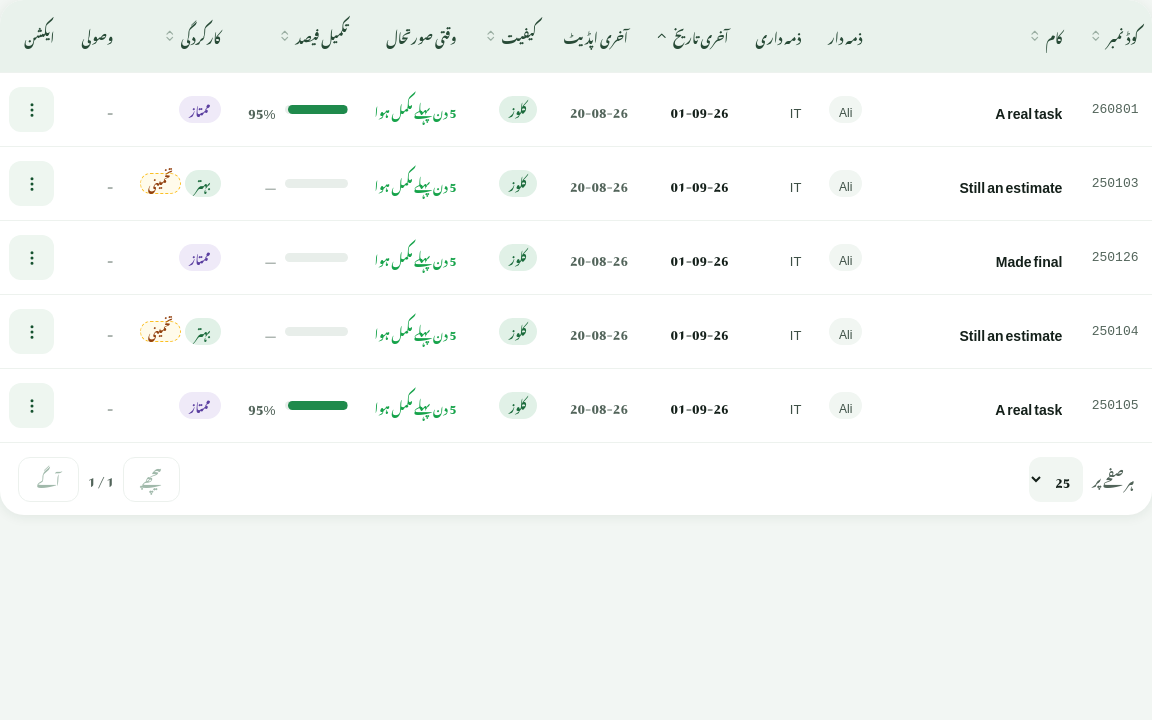
it: the "تخمینی درجہ بندی تبدیل کریں" action › desktop menu: enabled for an estimate, and for an older backend's estimate; still hidden where there was never an estimate
This screenshot has width=1152, height=720.
Click the button named "اقدامات" in the row of "250103".
click(32, 184)  # box [9,161,54,206]
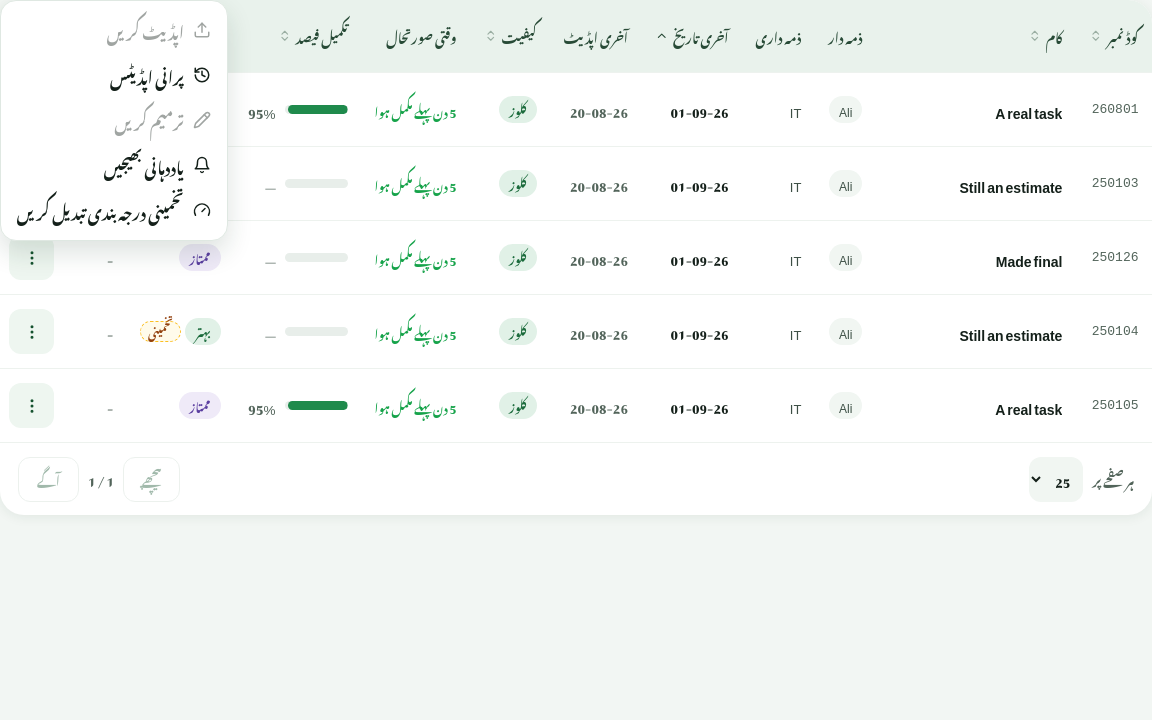
Expected: the button "تخمینی درجہ بندی تبدیل کریں" is enabled
Click the button "تخمینی درجہ بندی تبدیل کریں".
click(114, 210)  # box [8,188,220,233]
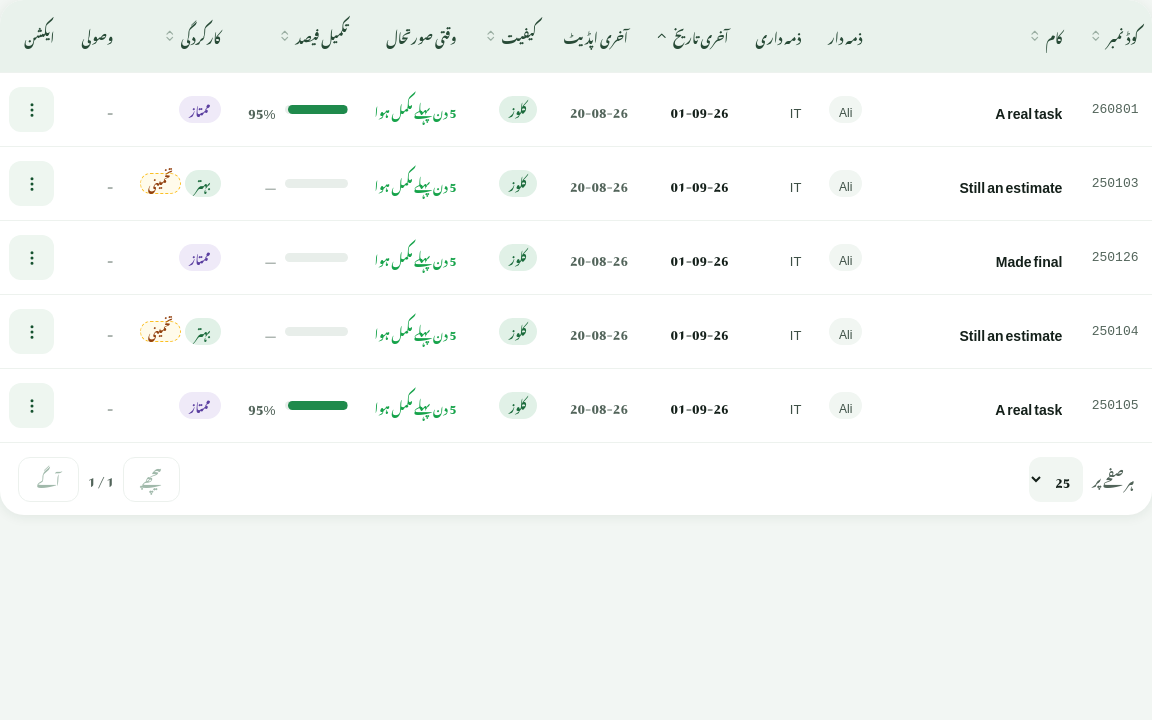
Click the button named "اقدامات" in the row of "250104".
click(32, 332)  # box [9,309,54,354]
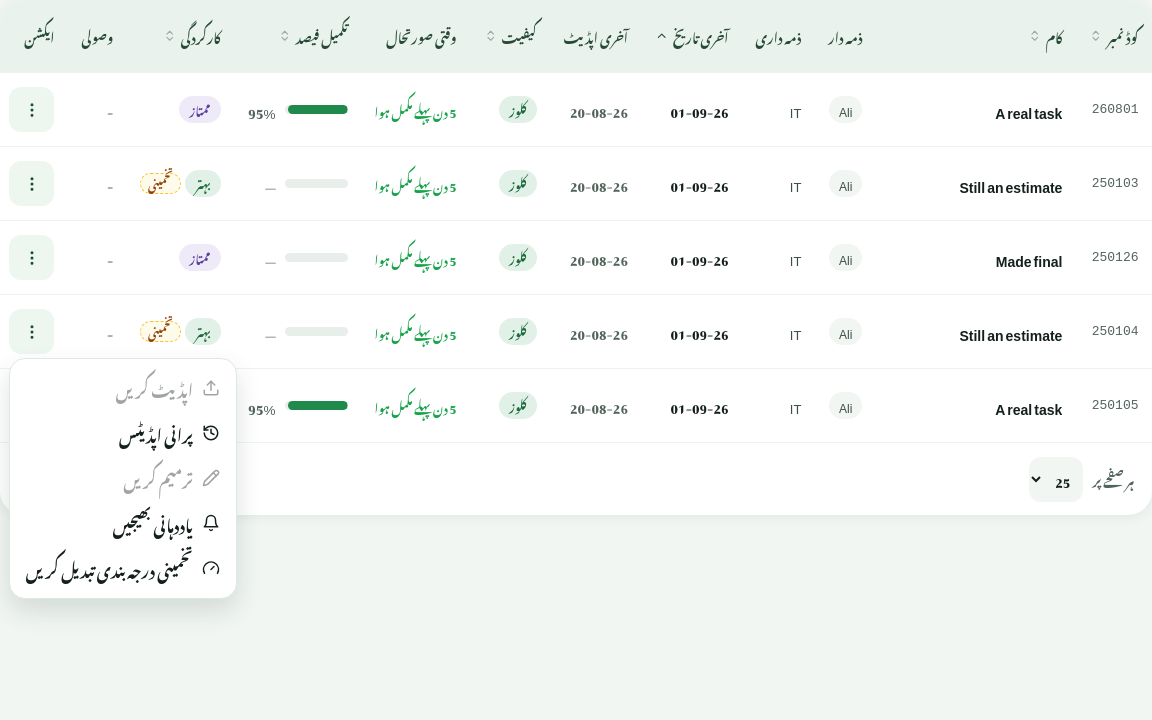
Expected: the button "تخمینی درجہ بندی تبدیل کریں" is enabled, [17,546,229,591]
